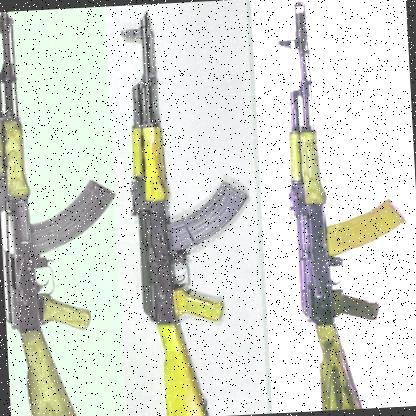rifle: (264, 0, 416, 412), (120, 4, 265, 416), (0, 9, 133, 416)
